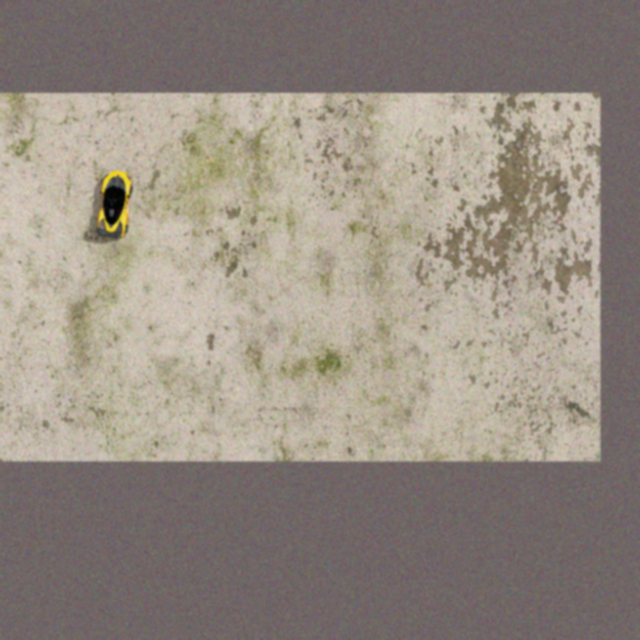car: (93, 167, 136, 240)
